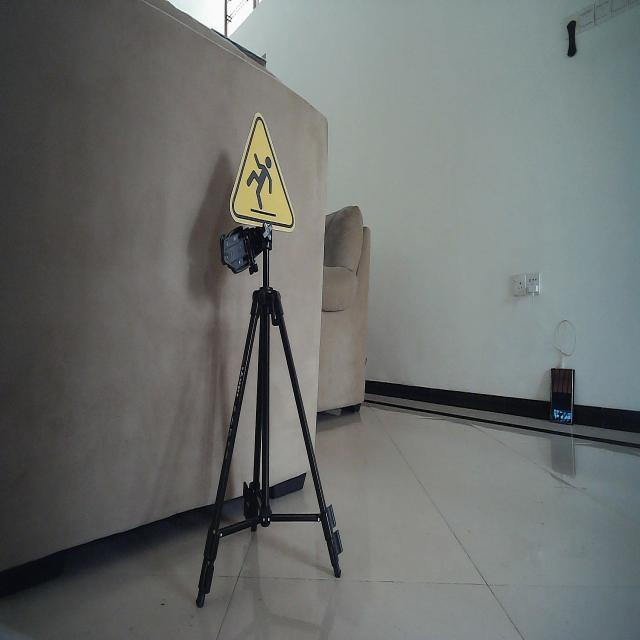slippery_sign: (228, 110, 296, 234)
